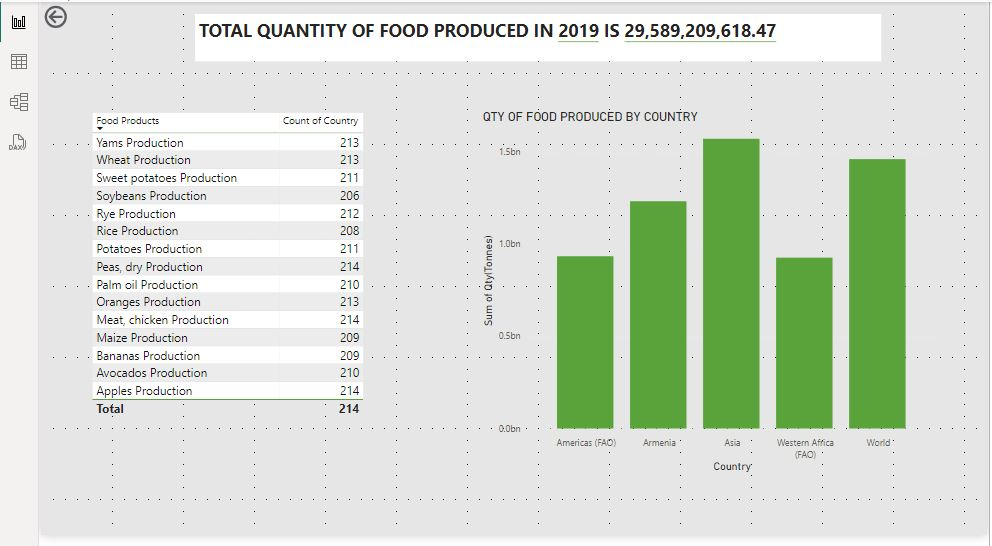

Layout of this report page (visuals, bound fields, positions):
{"tool":"powerbi","page":{"name":"Drillthrough","canvas":[1280,720],"ordinal":2},"visuals":[{"type":"actionButton","box":[0,0,100,40],"z":0},{"type":"textbox","box":[208,16,928,64],"z":1000},{"type":"columnChart","title":"QTY OF FOOD PRODUCED BY COUNTRY","fields":{"Category":["world food production.Country"],"Y":["Sum(world food production.Qty(Tonnes))"]},"box":[592,144,624,496],"z":2000},{"type":"tableEx","fields":{"Values":["world food production.Food Products","world food production.Country"]},"box":[64,144,496,496],"z":3000}]}

Visuals, with their boxes on the page's 1280x720 design canvas (x1, y1, x2, y2). These are canvas units, not pixel positions in the 992x546 screenshot, which may show the page scaled, cropped or inside an application window:
actionButton: region(0, 0, 100, 40)
textbox: region(208, 16, 1136, 80)
"QTY OF FOOD PRODUCED BY COUNTRY" columnChart: region(592, 144, 1216, 640)
tableEx - world food production.Food Products x world food production.Country: region(64, 144, 560, 640)
